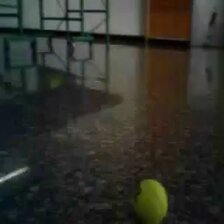tennis: (133, 179, 167, 223)
